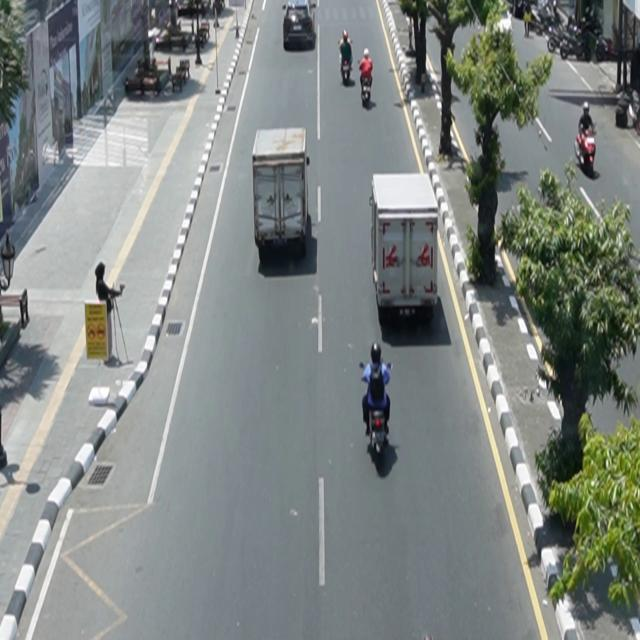car: (284, 1, 315, 50)
truck: (371, 173, 440, 323), (253, 127, 311, 258)
